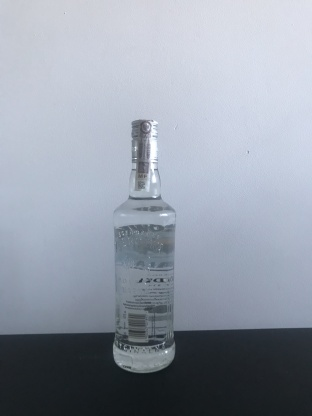nakretka: (128, 114, 160, 166)
